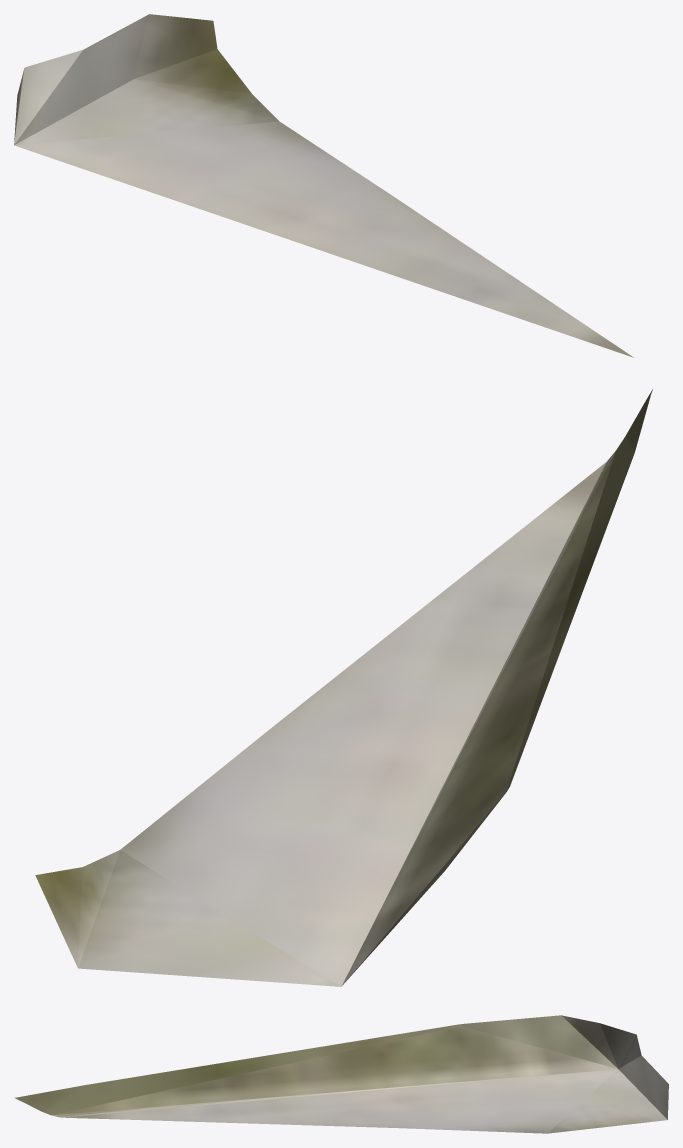
3 views of the same model, one above another, from view 1: azimuth 30°, elevation 25°; view 2: azimuth 150°, elevation 25°; view 3: azimuth 270°, elevation 25° (orthographic). The views are drawn at different scales.
Bounding box in the file's own units: 6.63 × 1.59 × 22.22.
1 material, 1 textured.
